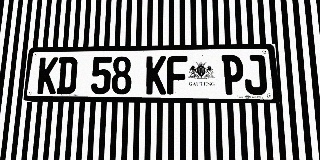5: (91, 56, 112, 94)
8: (111, 56, 132, 94)
D: (56, 57, 78, 94)
F: (167, 56, 188, 94)
J: (243, 55, 267, 95)
K: (37, 57, 58, 94), (146, 56, 166, 94)
P: (221, 55, 244, 95)
